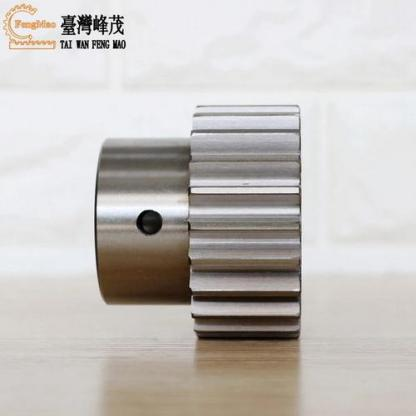FOD: (88, 96, 307, 344)
